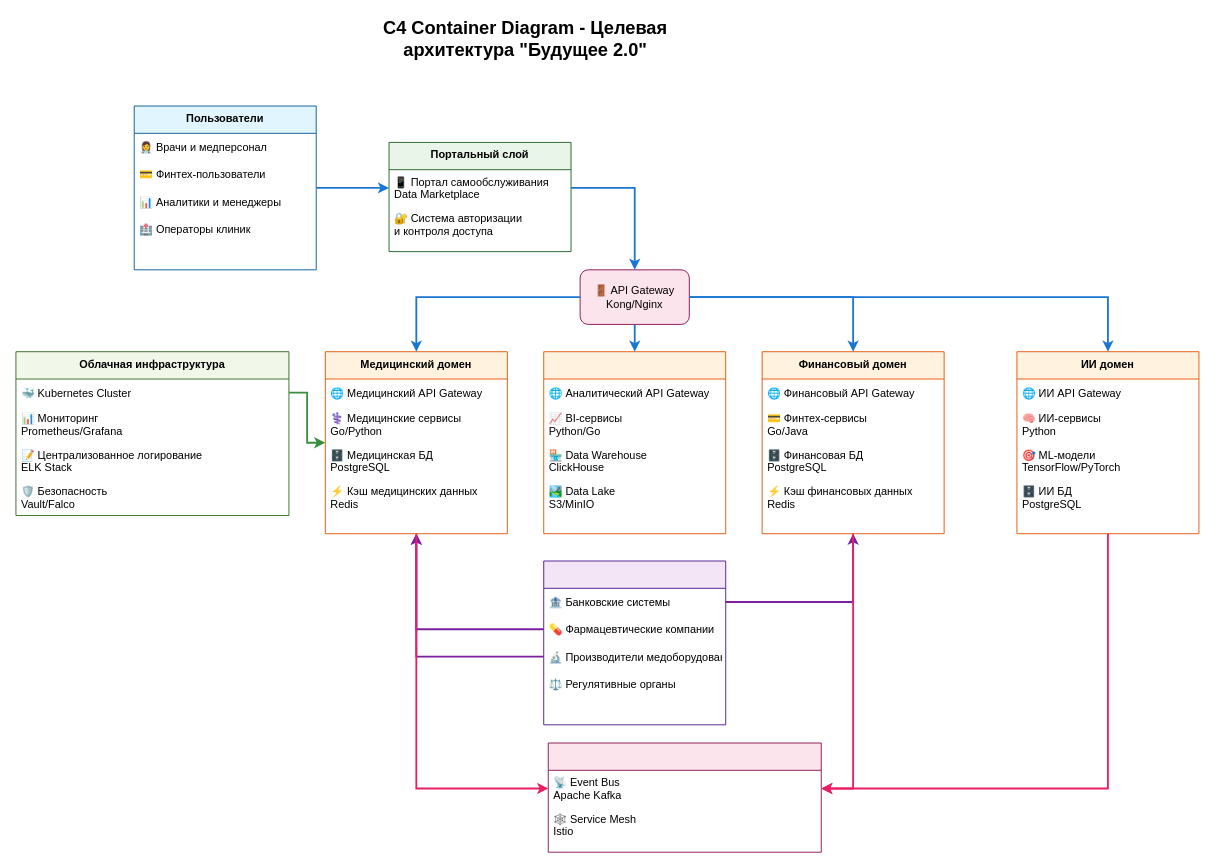
Image size: 1215x868. Some labels were removed from this diagram. Here are the shapes that lost their labels. From the top down, the box of each, then its label:
(543, 351, 726, 534): Аналитический домен
(543, 560, 726, 725): Внешние системы
(547, 742, 821, 852): Интеграционный слой
